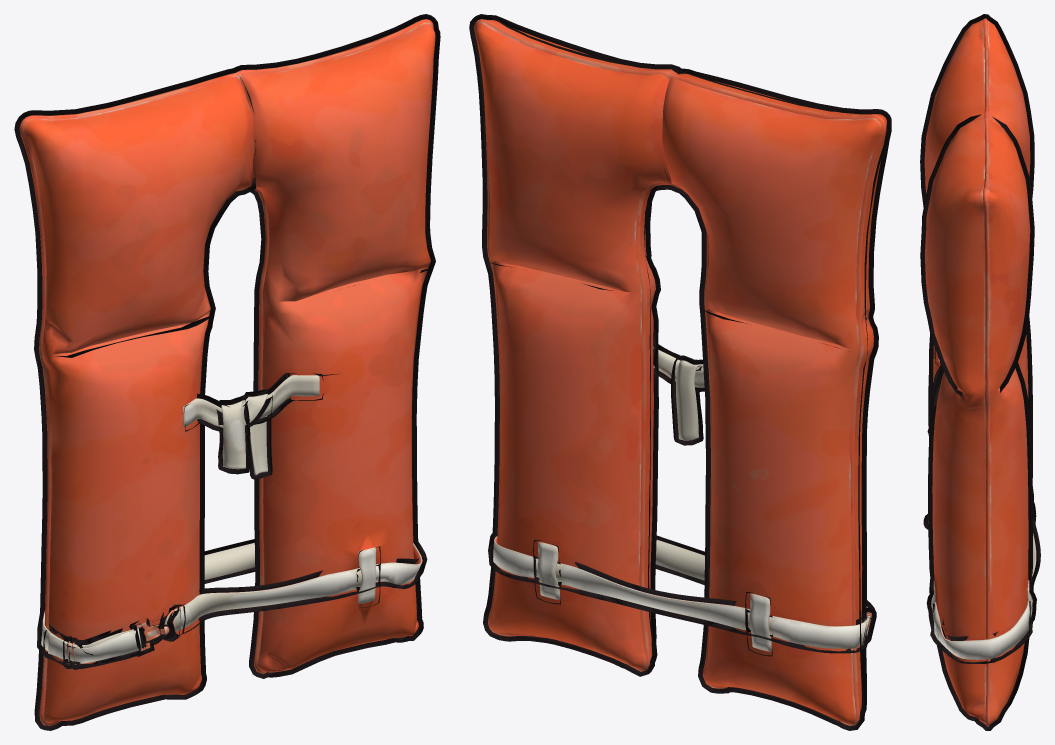
File: SM_Int_LifeJacket.fbx
3 renders of one model, left to right at view 1: azimuth 30°, elevation 25°; view 2: azimuth 150°, elevation 25°; view 3: azimuth 270°, elevation 25°, orthographic. The views are drawn at different scales.
Visible parts, largest first — view 1: SM_Int_LifeJacket; view 2: SM_Int_LifeJacket; view 3: SM_Int_LifeJacket.
Part boxes in pixels (x1,y1,x2,y2): SM_Int_LifeJacket: (14, 14, 440, 730); SM_Int_LifeJacket: (469, 14, 891, 730); SM_Int_LifeJacket: (920, 14, 1040, 730).
Bounding box in the file's own units: 0.7097 × 1.01 × 0.1988.
